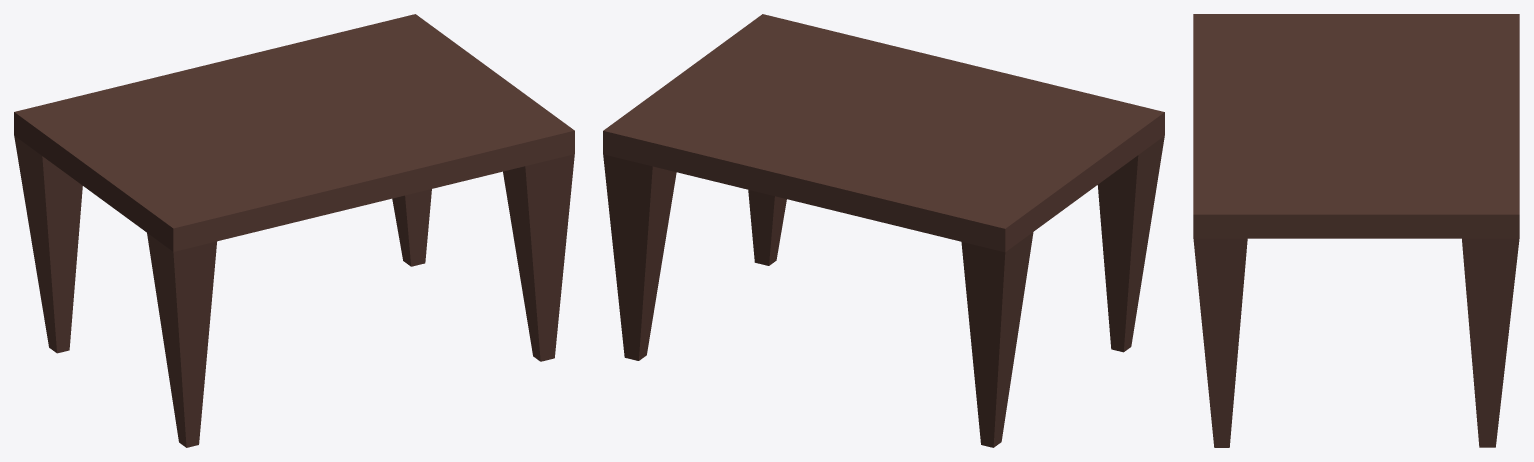
The model's file is desk.glb.
3 views of the same model, side by side, from view 1: azimuth 30°, elevation 25°; view 2: azimuth 150°, elevation 25°; view 3: azimuth 270°, elevation 25° (orthographic). The views are drawn at different scales.
Parts seen in each view (by area): view 1: Cube; view 2: Cube; view 3: Cube.
Boxes of the visible parts, x1=… form: Cube: x1=14, y1=14, x2=574, y2=447; Cube: x1=603, y1=14, x2=1164, y2=447; Cube: x1=1193, y1=14, x2=1519, y2=447.
Bounding box in the file's own units: 2.54 × 1.41 × 1.74.
